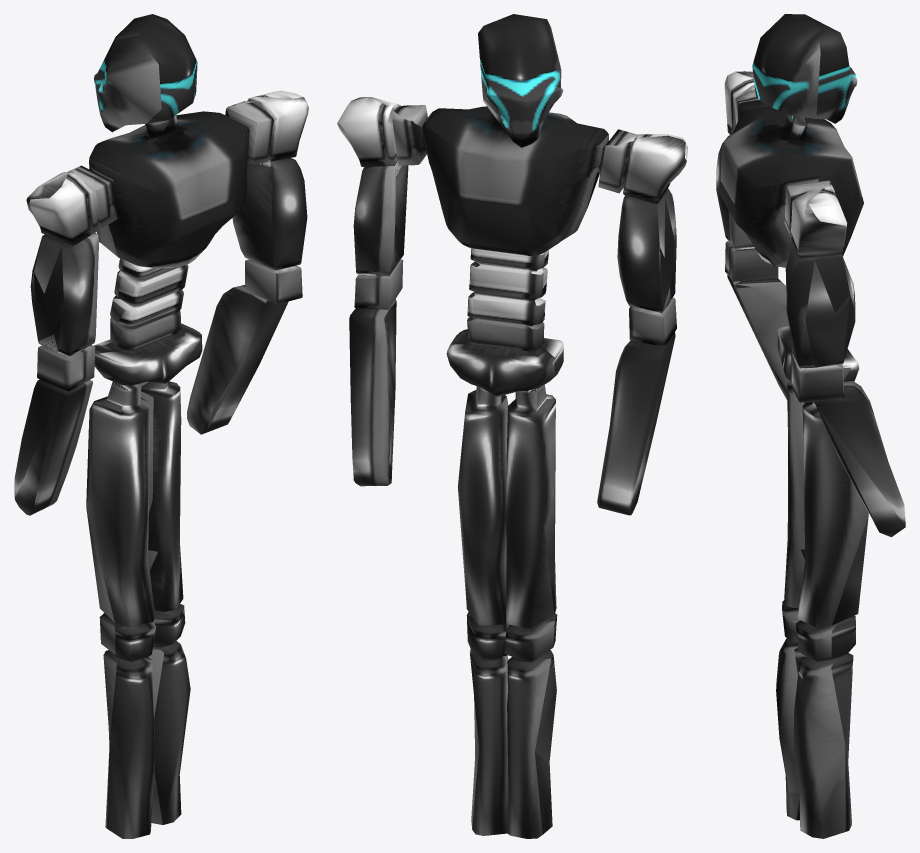
File: frame_041.obj
3 views of the same model, side by side, from view 1: azimuth 30°, elevation 25°; view 2: azimuth 150°, elevation 25°; view 3: azimuth 270°, elevation 25° (orthographic).
Parts seen in each view (by area): view 1: Cyborg, PierzaI, PiernaD, AntebrazoD, Cabeza, BrazoD; view 2: Cyborg, PierzaI, PiernaD, AntebrazoD, Cabeza, BrazoD; view 3: PiernaD, Cyborg, AntebrazoD, Cabeza, PierzaI, BrazoD.
Part boxes in pixels (x1,y1,x2,y2): Cyborg: (14, 101, 274, 515); PierzaI: (86, 381, 155, 838); PiernaD: (139, 381, 190, 824); AntebrazoD: (232, 90, 308, 303); Cabeza: (94, 14, 197, 132); BrazoD: (187, 285, 288, 434); Cyborg: (391, 105, 687, 515); PierzaI: (504, 385, 557, 838); PiernaD: (458, 386, 508, 835); AntebrazoD: (337, 97, 408, 309); Cabeza: (478, 14, 563, 147); BrazoD: (349, 299, 396, 486); PiernaD: (793, 401, 868, 838); Cyborg: (716, 71, 863, 400); AntebrazoD: (785, 188, 855, 402); Cabeza: (752, 14, 857, 123); PierzaI: (776, 381, 806, 820); BrazoD: (814, 381, 905, 537).
Size of the model in its own units: 9.91 by 24.74 by 5.33.
1 material, 1 textured.
